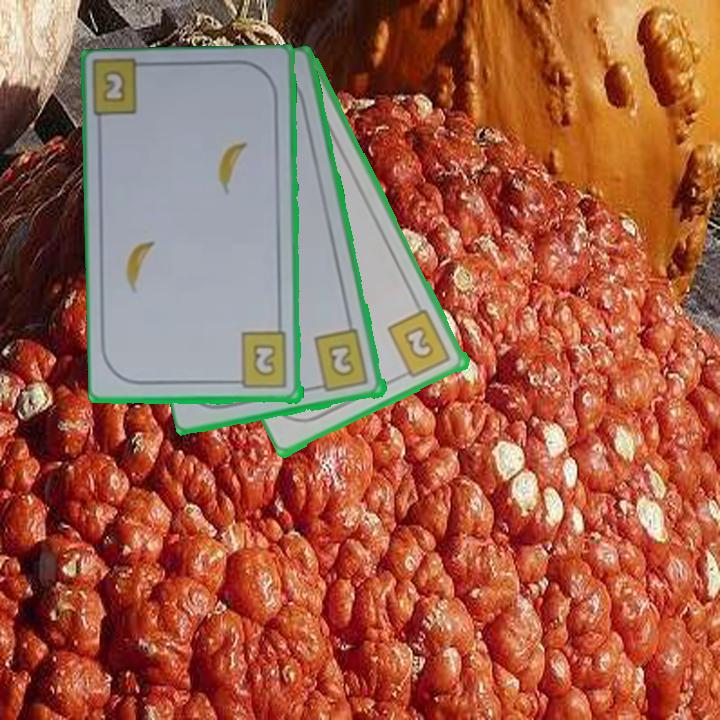2b: (384, 306, 454, 382), (311, 326, 372, 395), (229, 330, 290, 392), (99, 67, 129, 106)
